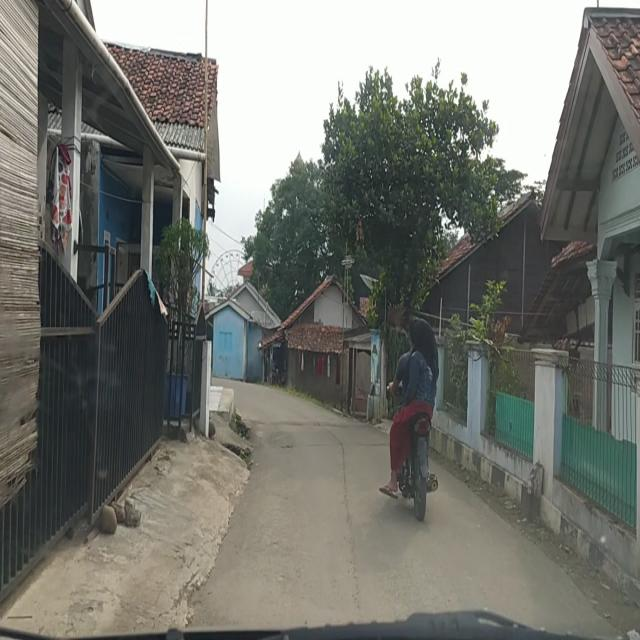Sewer Cover: (261, 441, 388, 450)
